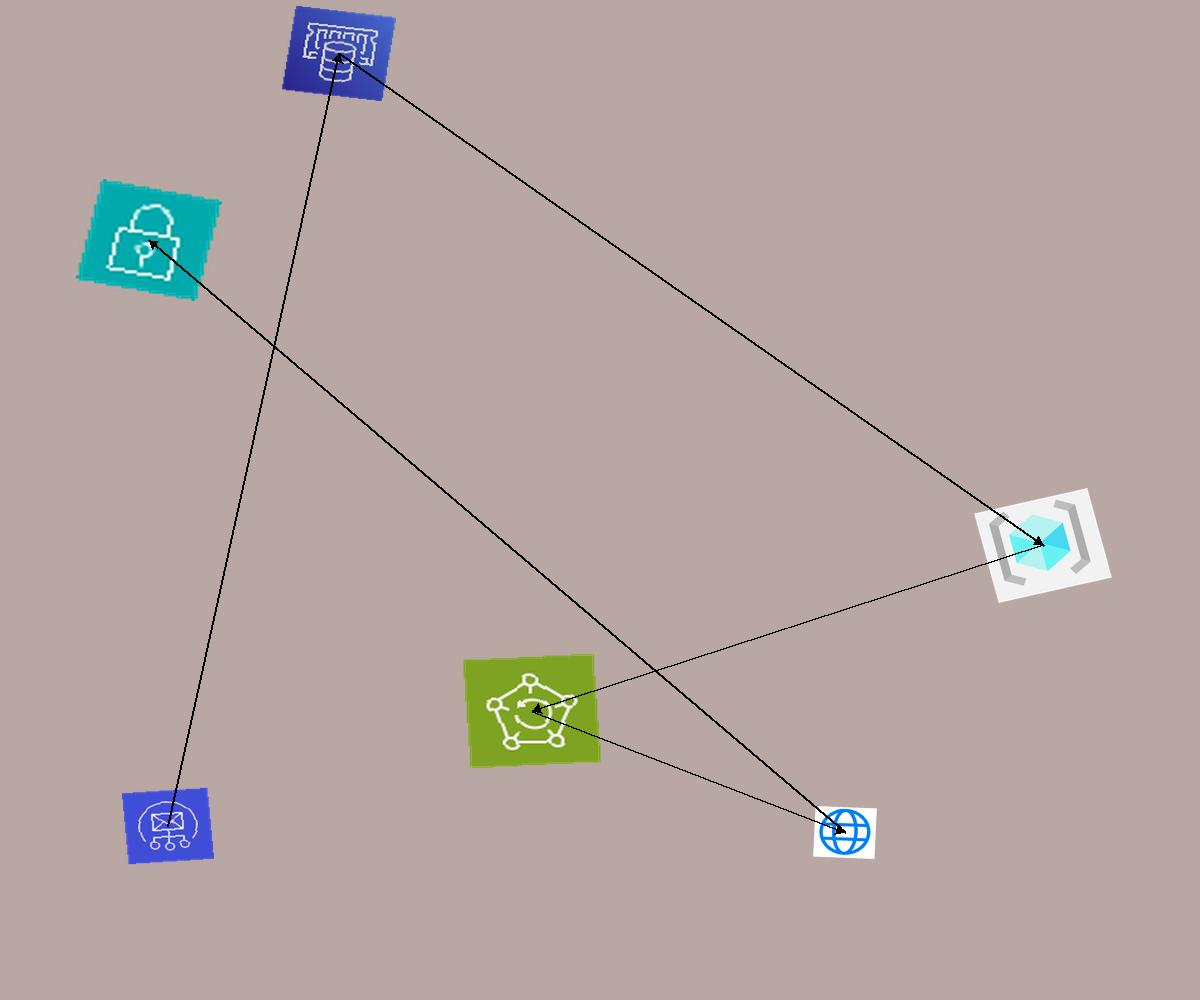AWS-Backup: (462, 653, 602, 769)
AWS-ElastiCache: (281, 5, 397, 102)
AWS-Private-subnet: (76, 179, 222, 301)
AWS-Simple-Email-Service: (121, 787, 215, 865)
Azure_http: (813, 806, 877, 859)
Azure_resource_group: (974, 488, 1112, 603)
